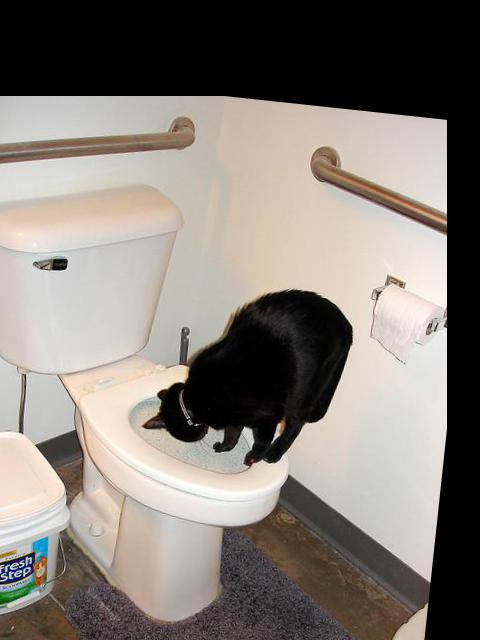Otro Obstaculo: (139, 270, 367, 481)
Sanitario: (0, 167, 320, 640)
